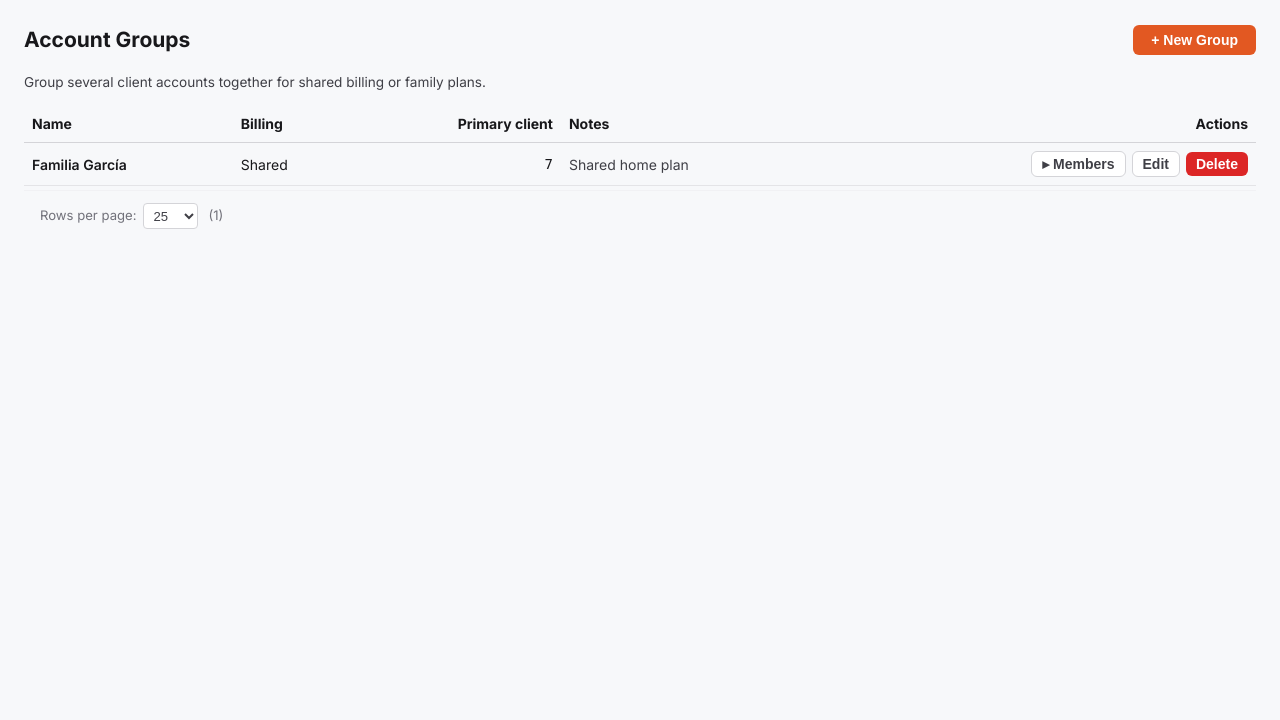
Test case: ClientGroupList page › Pay group balance posts the amount to the pay endpoint
The image size is (1280, 720).
Expected: the text "Familia García" is shown, [24,143,233,186]
Step 1. Click the button "▸ Members" → (1078, 164), box [1031,152,1126,178]
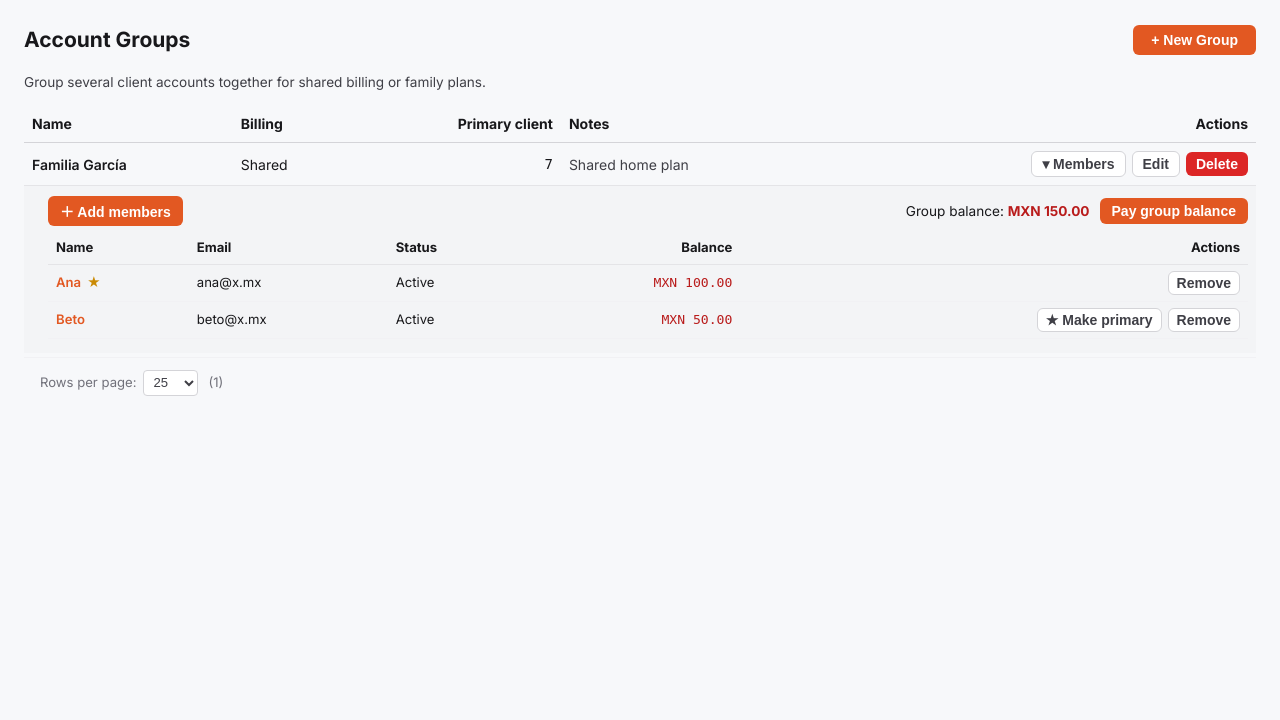
Step 2. Click the button "Pay group balance" → (1174, 212), box [1100,198,1248,224]
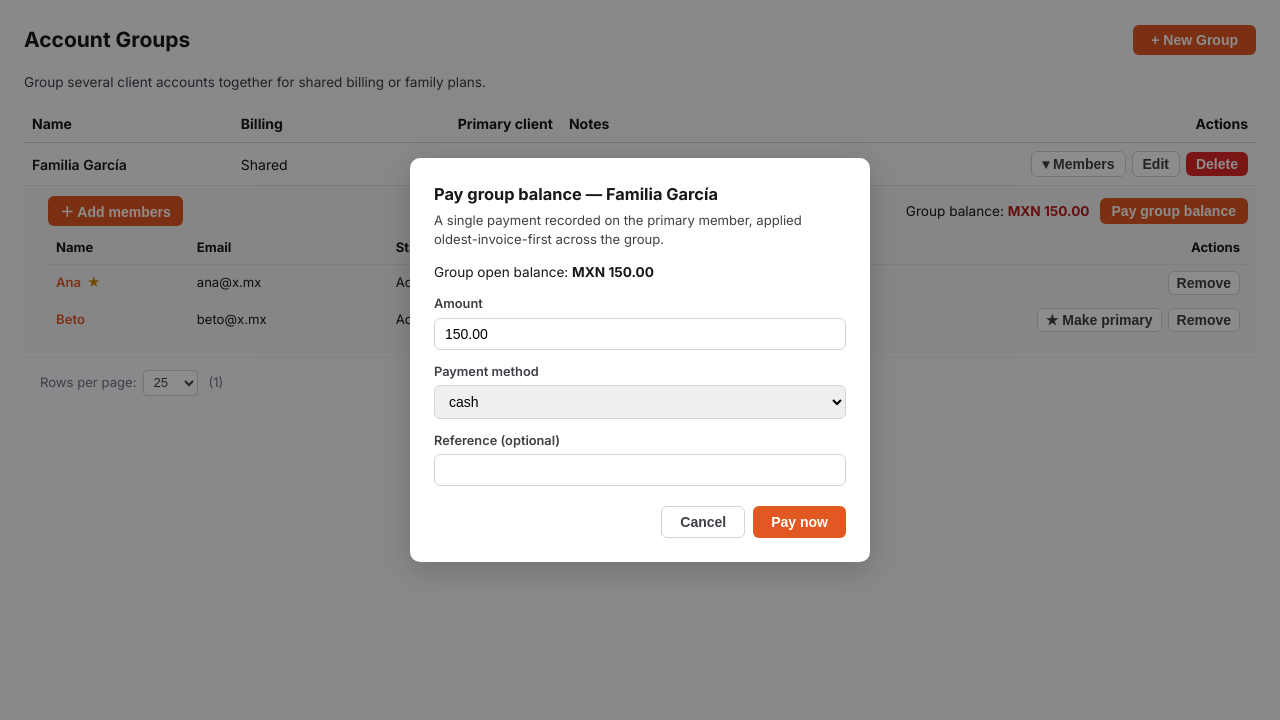
Step 3. Click the button "Pay now" → (800, 522), box [753,506,846,538]
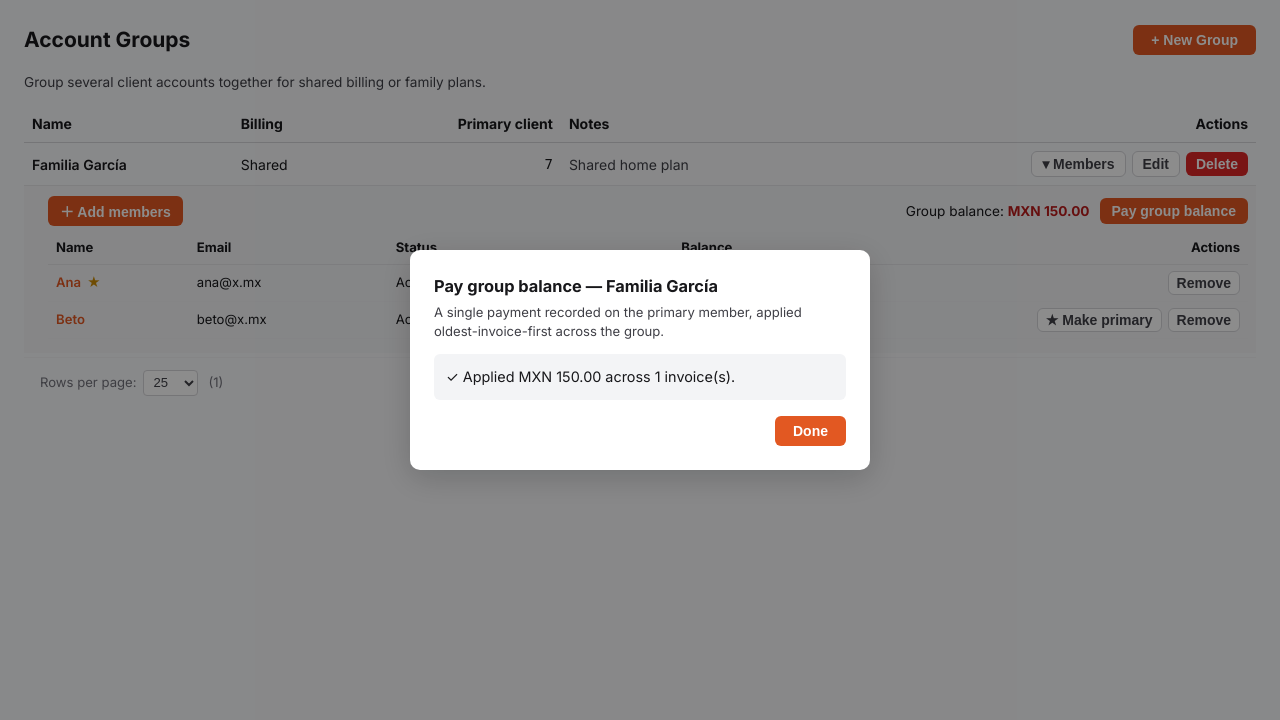
Expected: the text "✓ Applied MXN 150.00 across 1 invoice(s)." is shown, [434,354,846,400]
